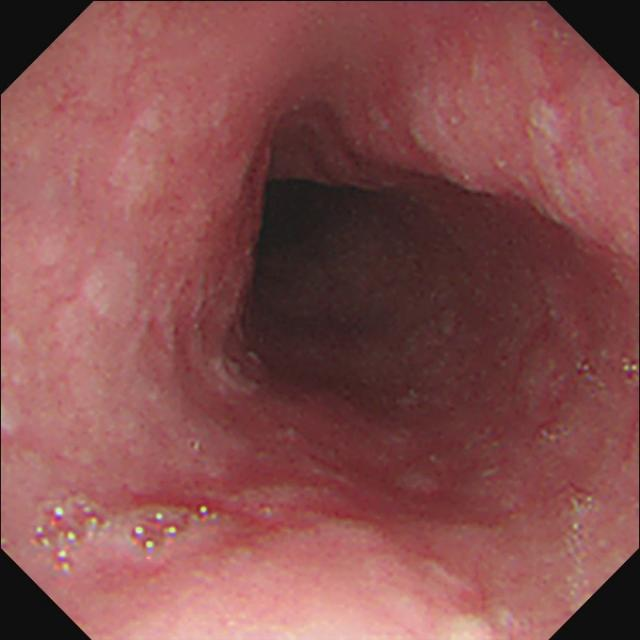E: (225, 153, 473, 408)
T: (30, 497, 220, 576)
